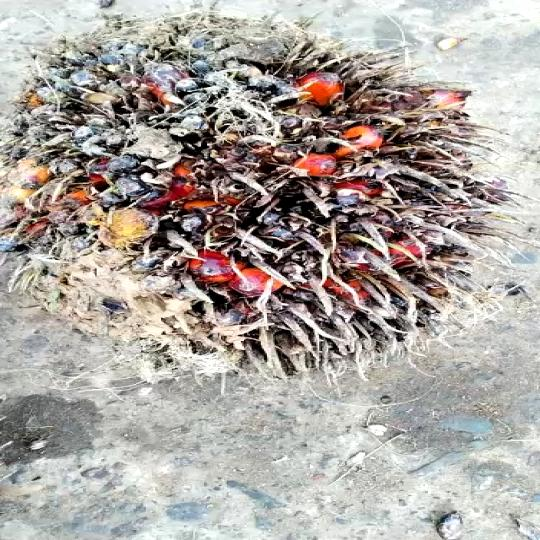terlalu masak: (0, 9, 540, 405)
